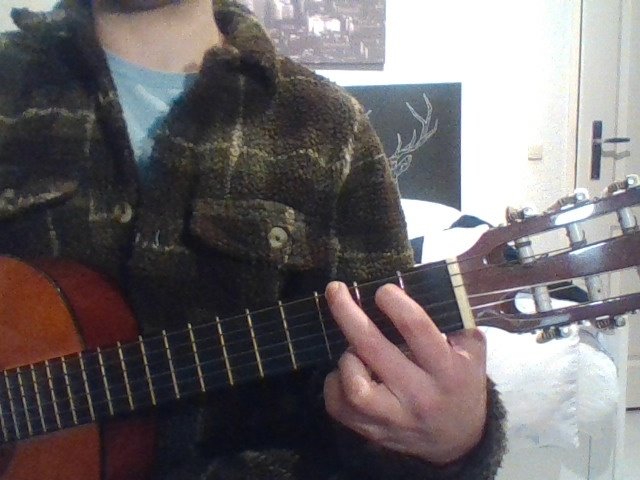G: (302, 259, 536, 474)
